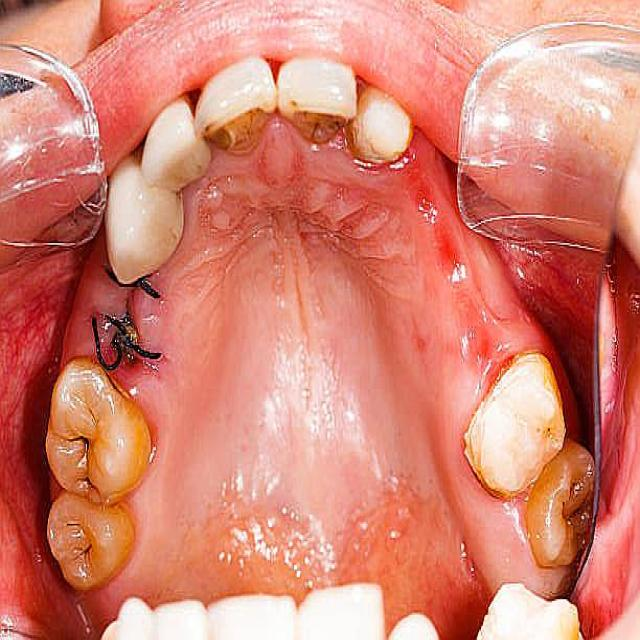caries: (198, 79, 271, 168), (279, 77, 353, 154), (548, 462, 595, 549), (56, 412, 98, 465), (61, 518, 102, 572), (72, 470, 100, 510)
